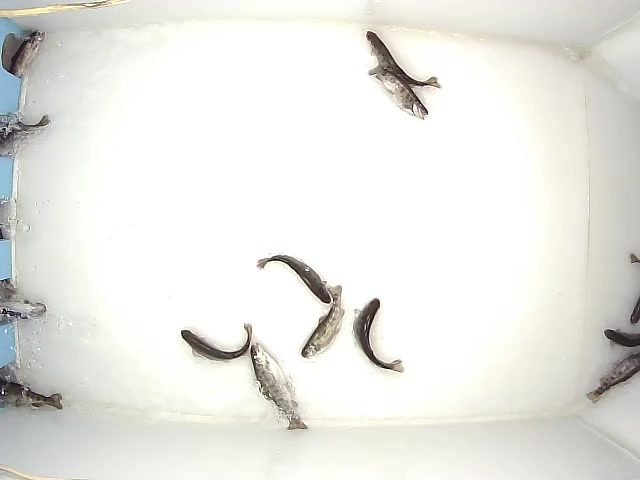fish: (361, 26, 442, 94), (252, 341, 309, 432), (345, 296, 404, 374), (256, 251, 333, 305), (299, 285, 351, 359), (182, 322, 258, 364), (376, 71, 428, 122)
